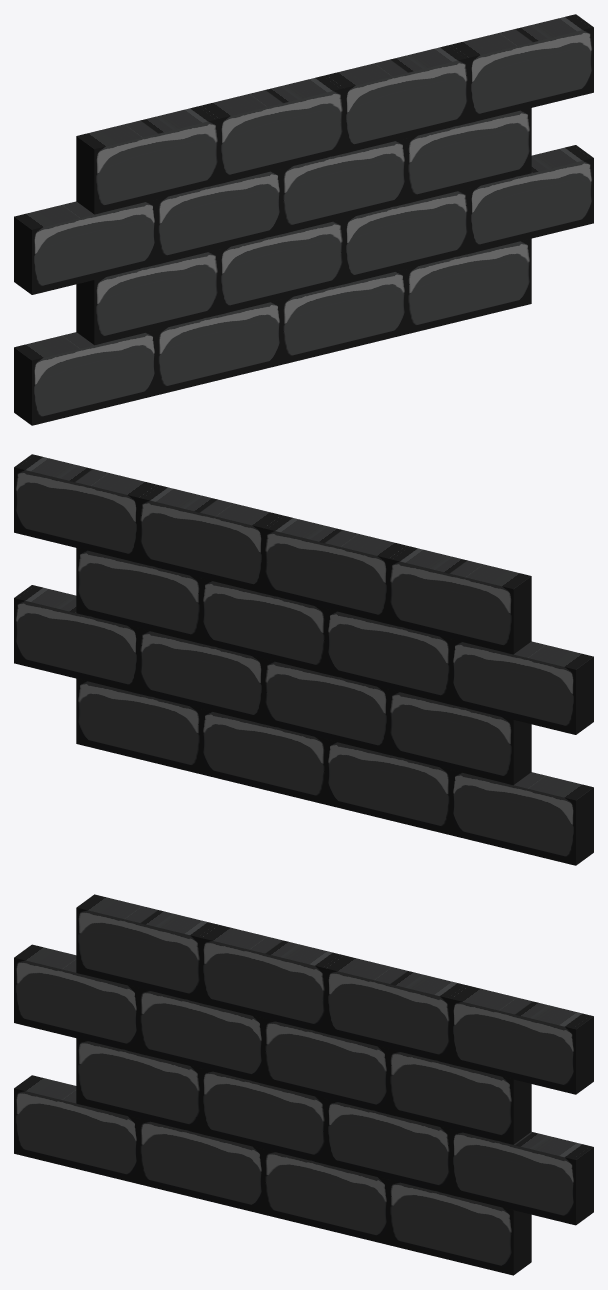
The model's file is Wall.fbx.
3 views of the same model, one above another, from view 1: azimuth 30°, elevation 25°; view 2: azimuth 150°, elevation 25°; view 3: azimuth 330°, elevation 25° (orthographic).
Visible parts, largest first — view 1: Plane.005; view 2: Plane.005; view 3: Plane.005.
Part boxes in pixels (bbox=[...]): Plane.005: bbox=[14, 14, 593, 425]; Plane.005: bbox=[14, 454, 593, 865]; Plane.005: bbox=[14, 894, 593, 1275].
Size of the model in its own units: 1800 by 800 by 100.
